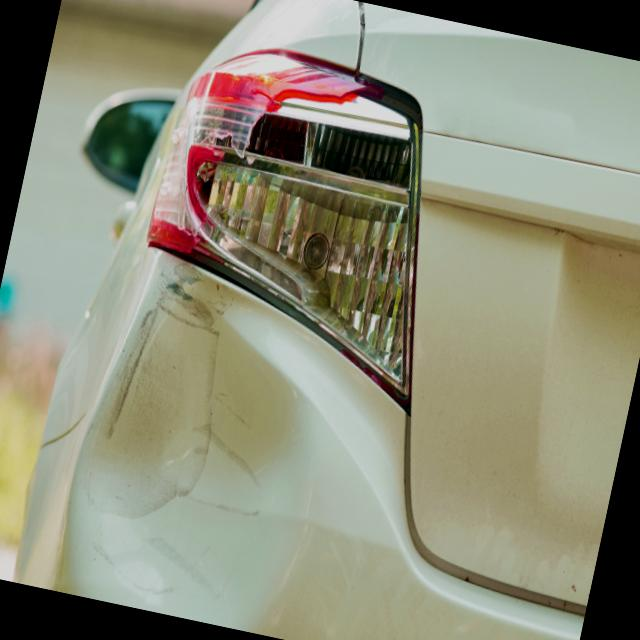Cabossage: (52, 276, 342, 638)
Phare abime: (158, 39, 477, 400)
Rayure: (69, 249, 295, 583)
